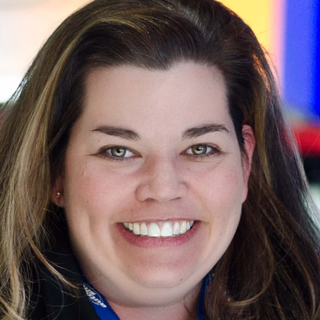eye: (94, 141, 144, 164), (179, 139, 226, 163)
